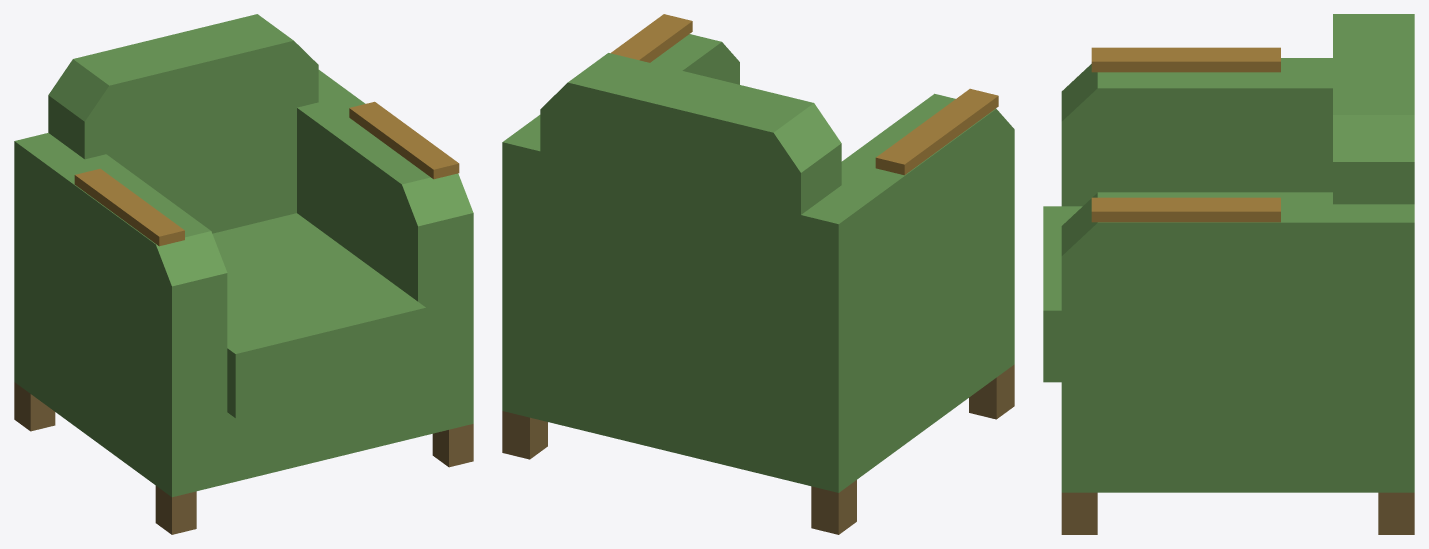
The model's file is armchair.glb.
3 views of the same model, side by side, from view 1: azimuth 30°, elevation 25°; view 2: azimuth 150°, elevation 25°; view 3: azimuth 270°, elevation 25° (orthographic). The views are drawn at different scales.
Visible parts, largest first — view 1: armchair; view 2: armchair; view 3: armchair.
Part boxes in pixels (bbox=[...]): armchair: bbox=[14, 14, 473, 534]; armchair: bbox=[502, 14, 1014, 534]; armchair: bbox=[1043, 14, 1414, 534].
Bounding box in the file's own units: 0.82 × 0.9 × 0.78.
